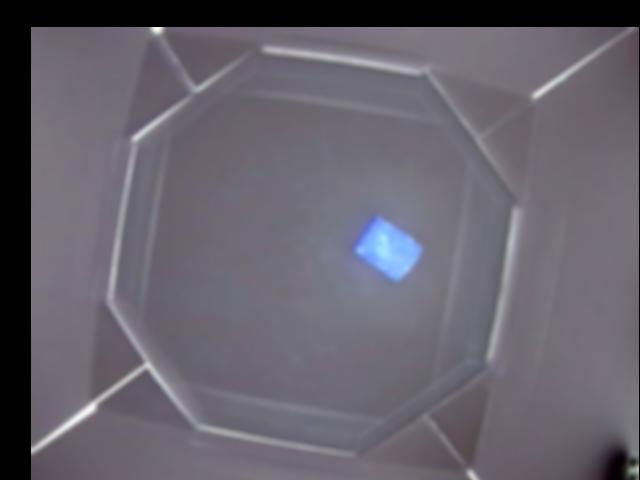Potato: (353, 214, 425, 283)
